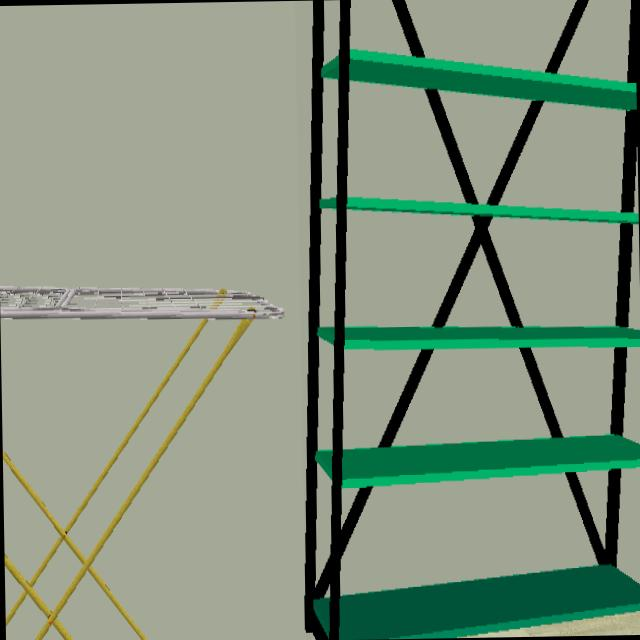shelf: (305, 0, 640, 640)
